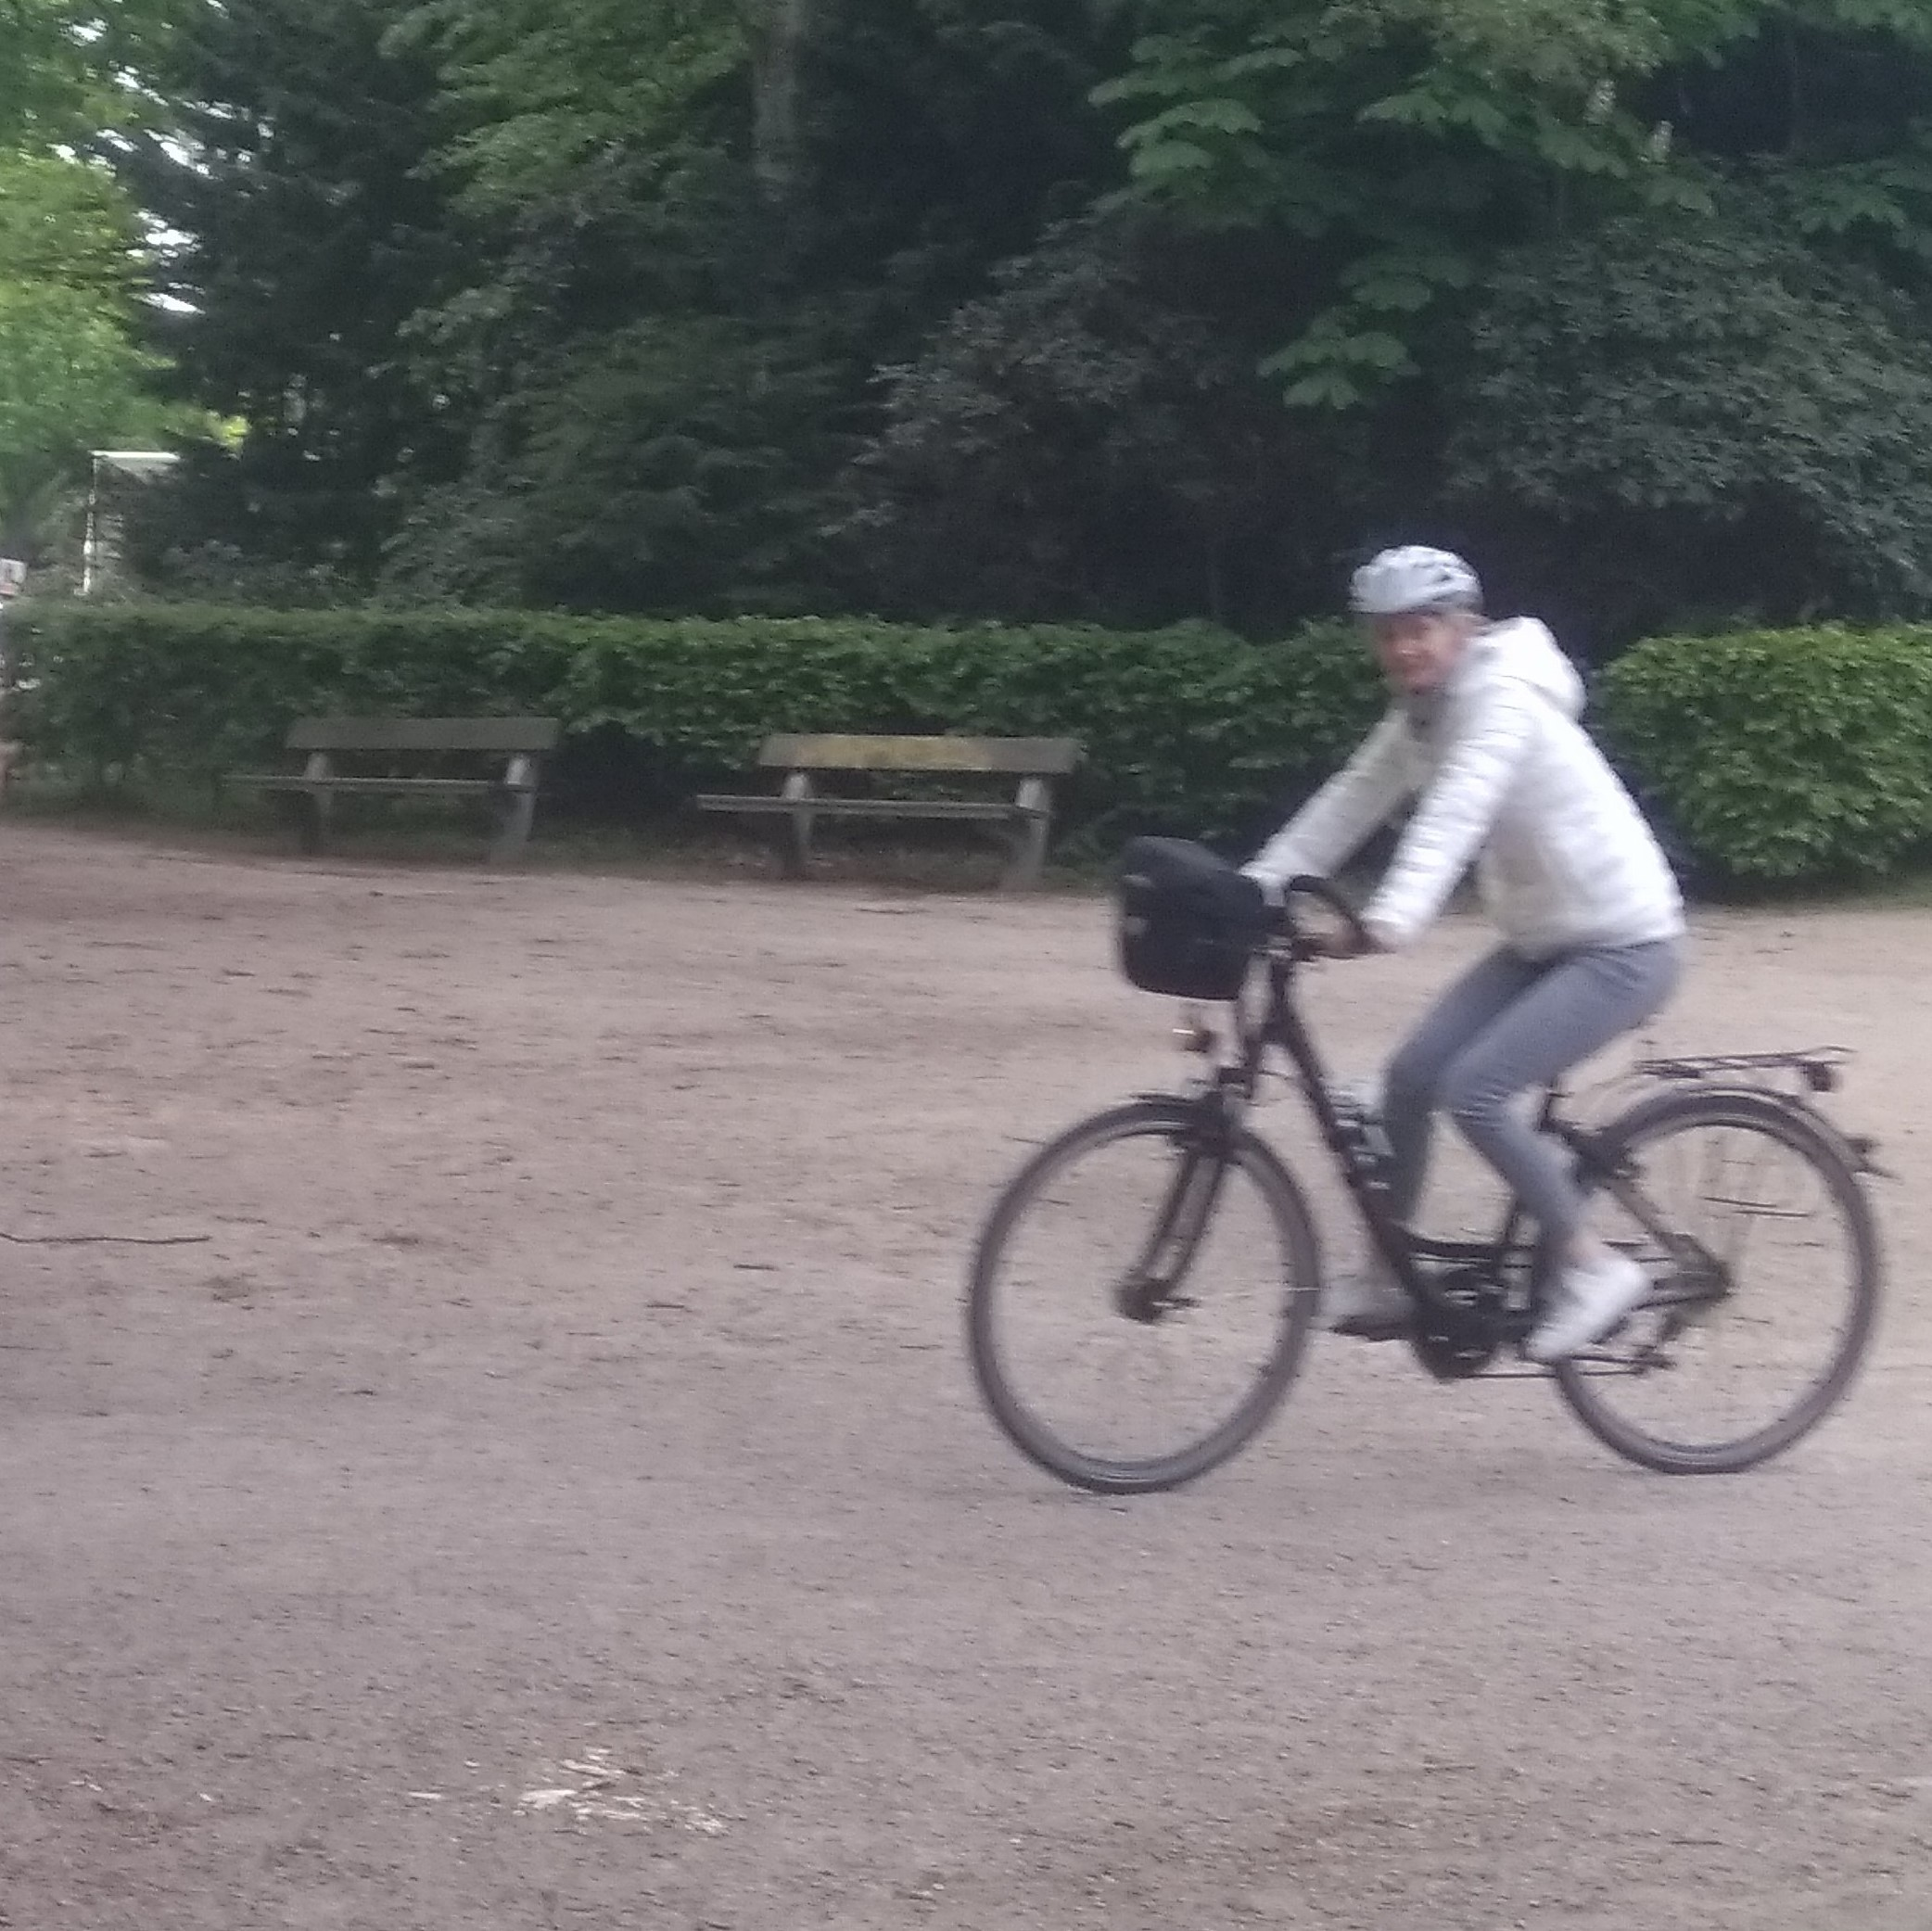bike_left: (949, 534, 1905, 1508)
